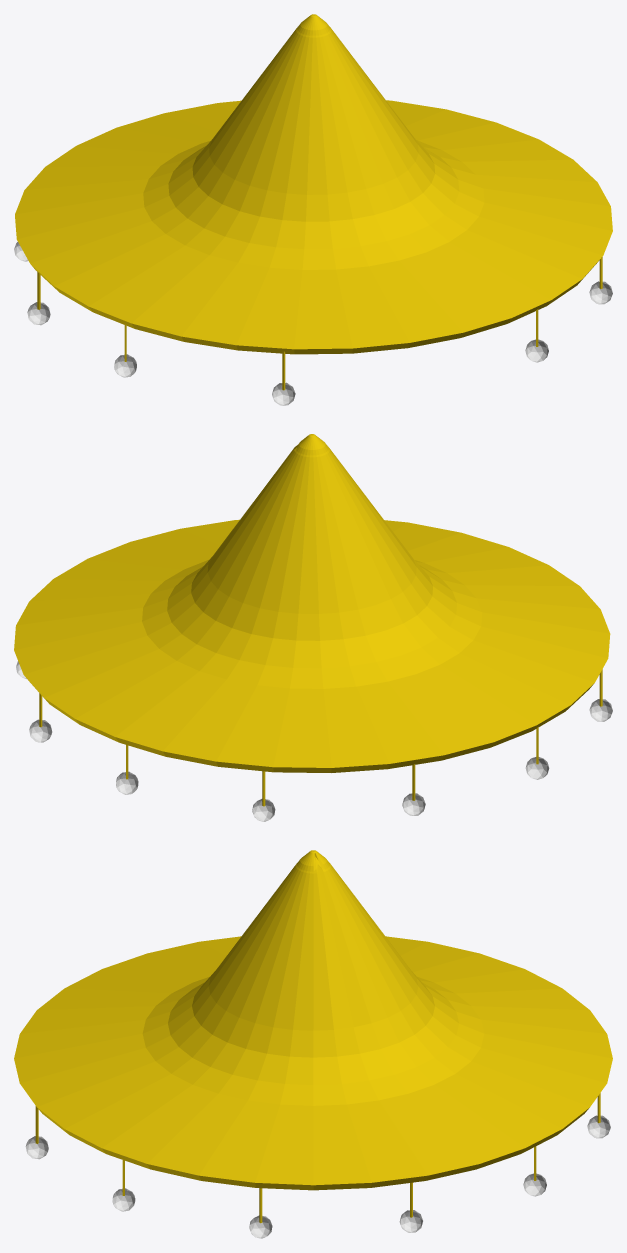
Rendered from sombrero.glb.
3 views of the same model, one above another, from view 1: azimuth 30°, elevation 25°; view 2: azimuth 150°, elevation 25°; view 3: azimuth 270°, elevation 25° (orthographic).
Visible parts, largest first — view 1: Circle; view 2: Circle; view 3: Circle.
Part boxes in pixels (bbox=[...]): Circle: bbox=[14, 14, 612, 405]; Circle: bbox=[14, 434, 612, 821]; Circle: bbox=[14, 850, 612, 1238].
Size of the model in its own units: 3.73 by 1.82 by 3.72.
